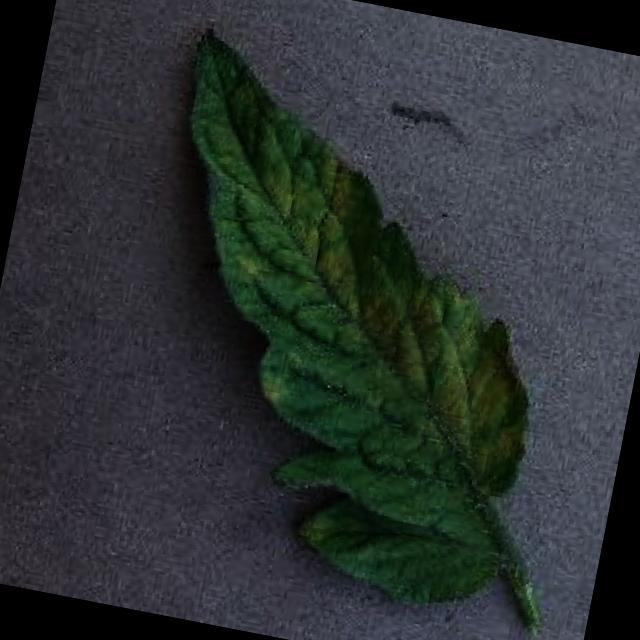Tomato healthy leaf: (103, 28, 589, 620)
